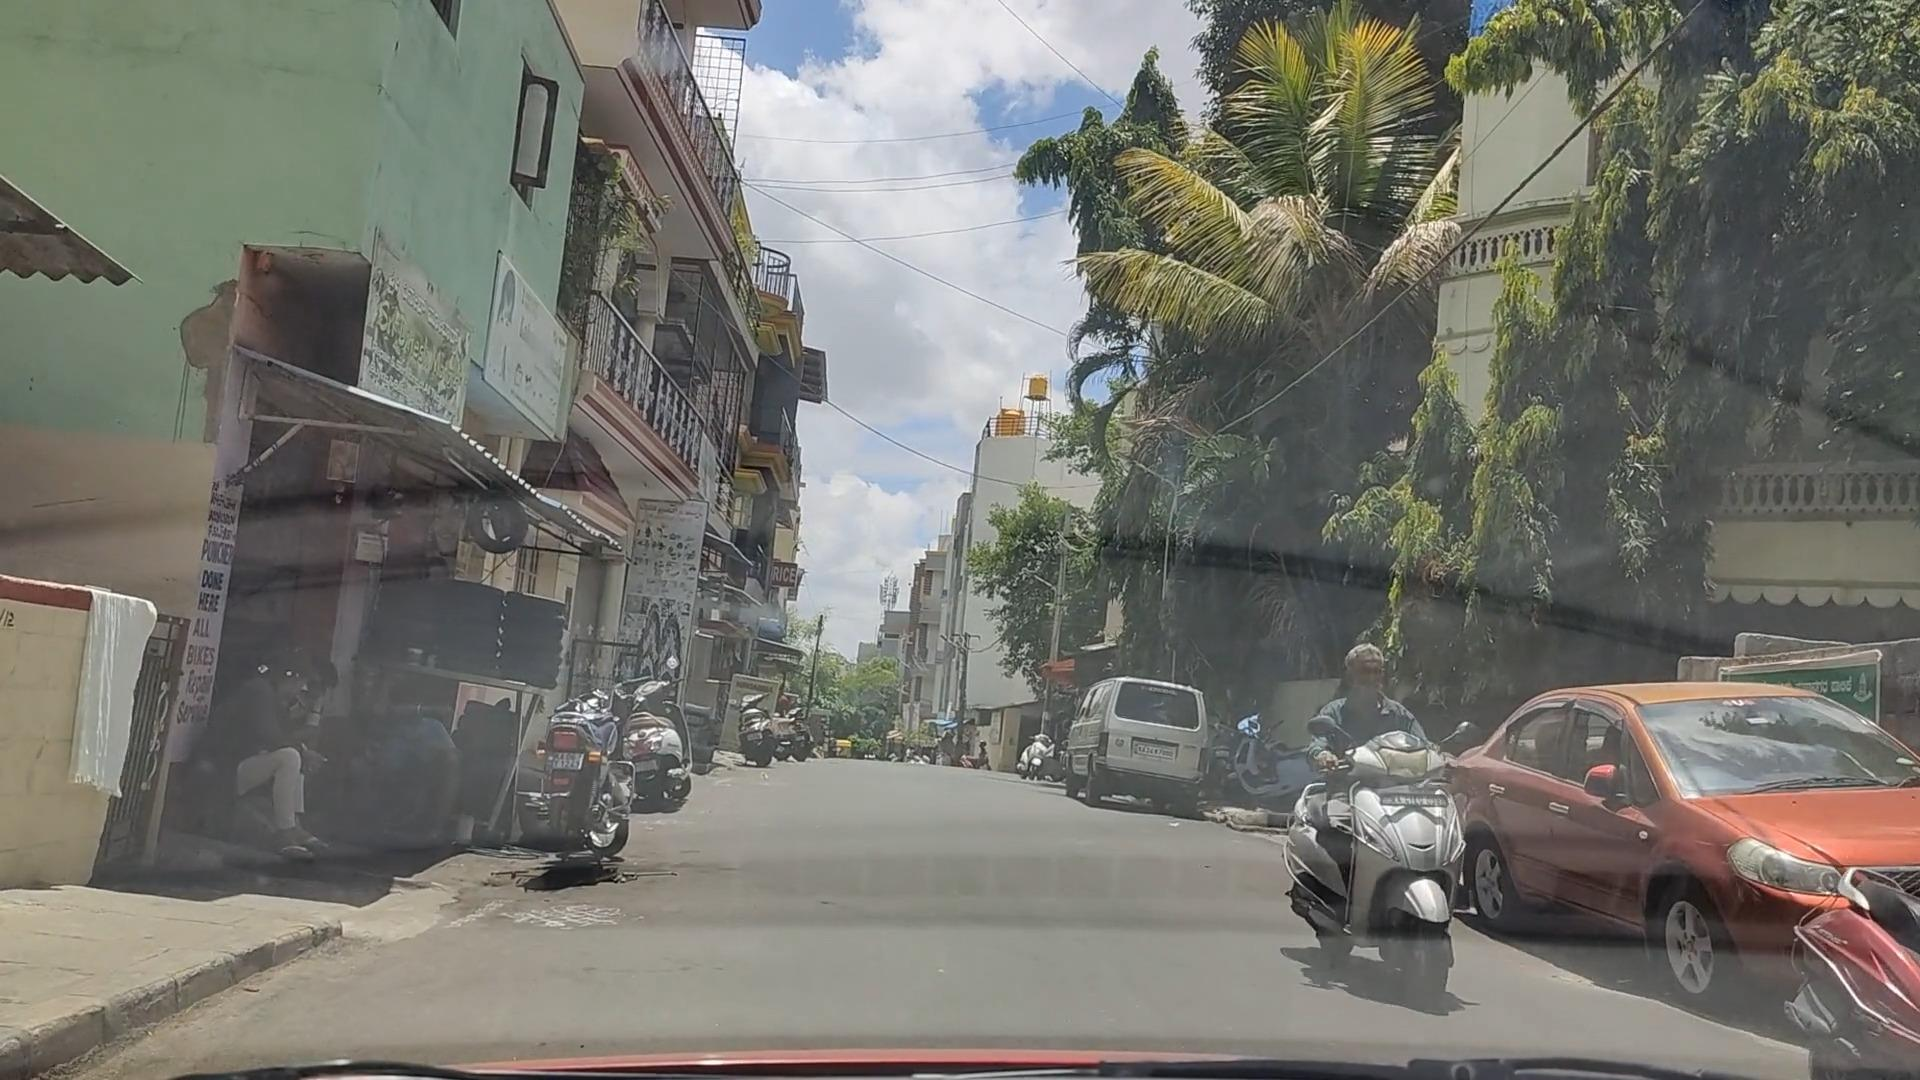LMV: (1307, 649, 1476, 1001)
